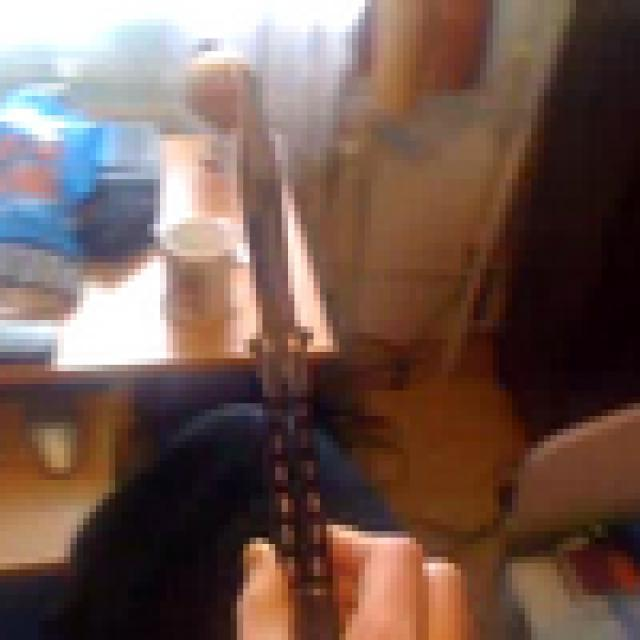knife: (180, 38, 390, 628)
